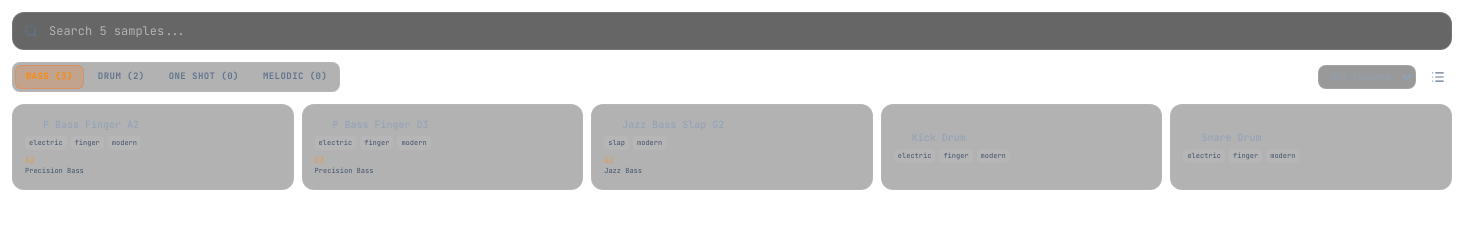
Test: PresetBrowser › clears all filters when Clear filters clicked
Type "el" into the field with placeholder "Search 5 samples...".
click(732, 31); type("el")  # box [12, 12, 1452, 50]
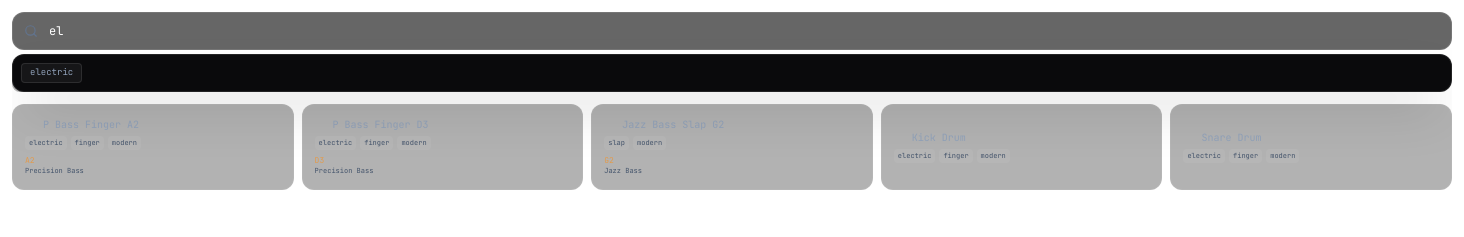
Click the button "electric".
click(52, 73)  # box [21, 63, 82, 82]
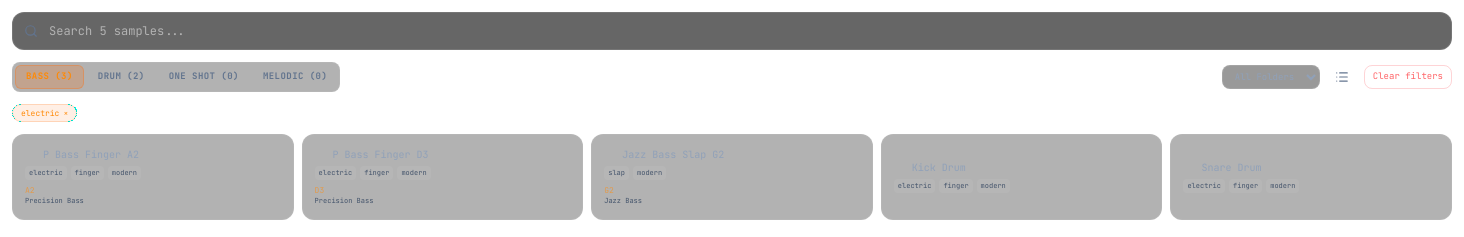
Click the button "Clear filters".
click(1408, 77)  # box [1364, 65, 1452, 88]
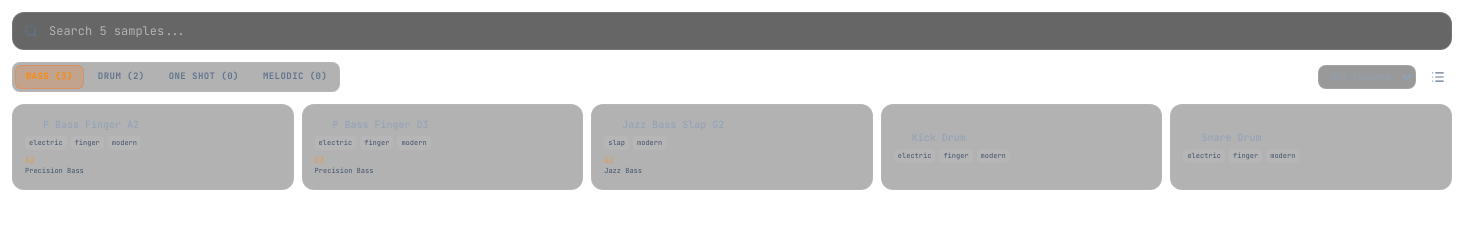
Result: the button "Clear filters" is gone
